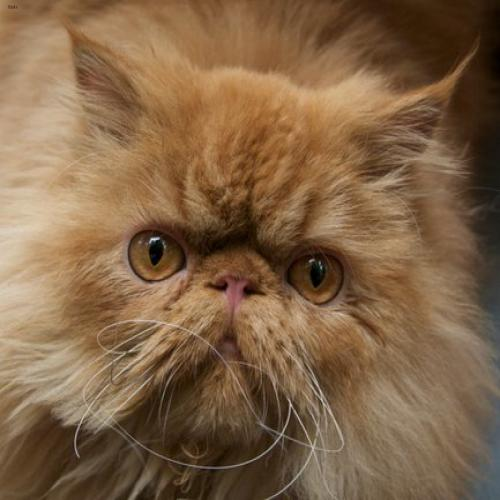persian: (44, 15, 481, 473)
